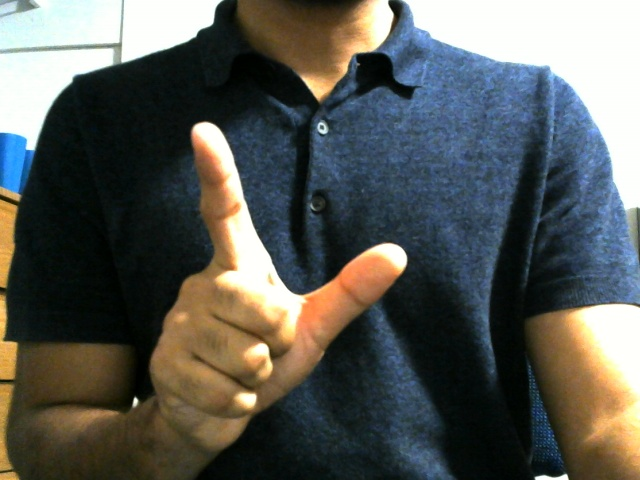L: (130, 122, 421, 426)
